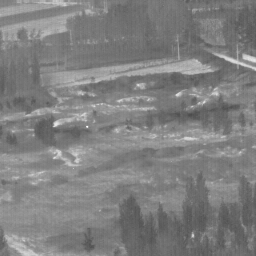aircraft: (86, 126, 88, 128)
